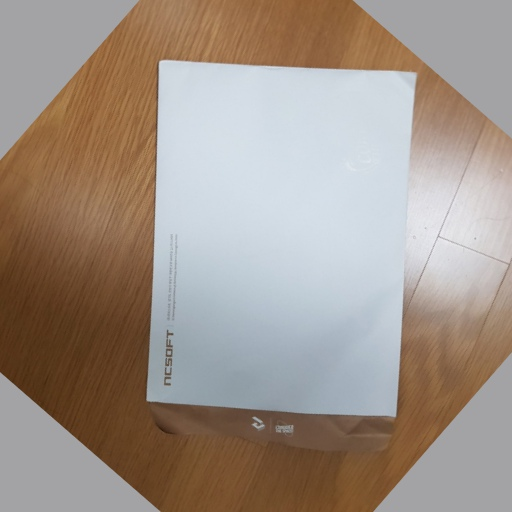Paper_2: (134, 54, 422, 469)
